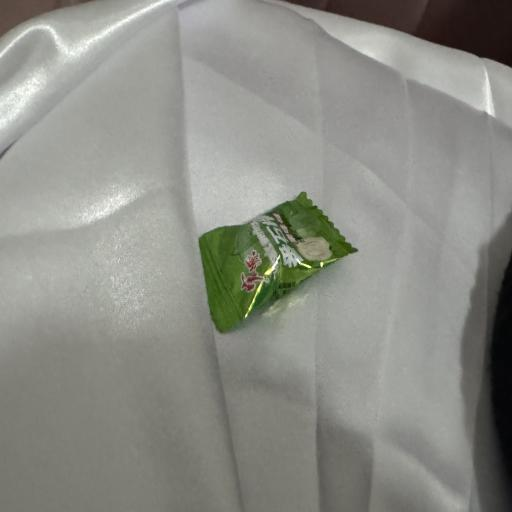chocolate: (199, 192, 356, 332)
